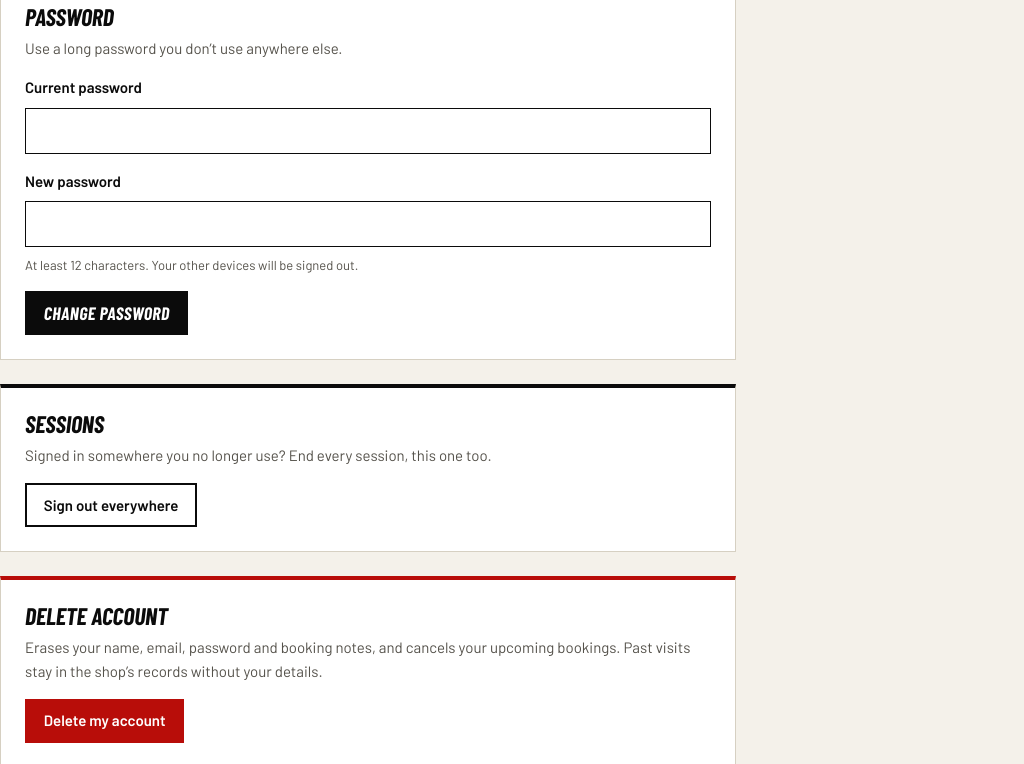
Test case: AccountPage › asks for the password before deleting, and shows a refusal
(page scrolled)
Click the button "Delete my account": (105, 721) [25,699,184,743]
(page scrolled)
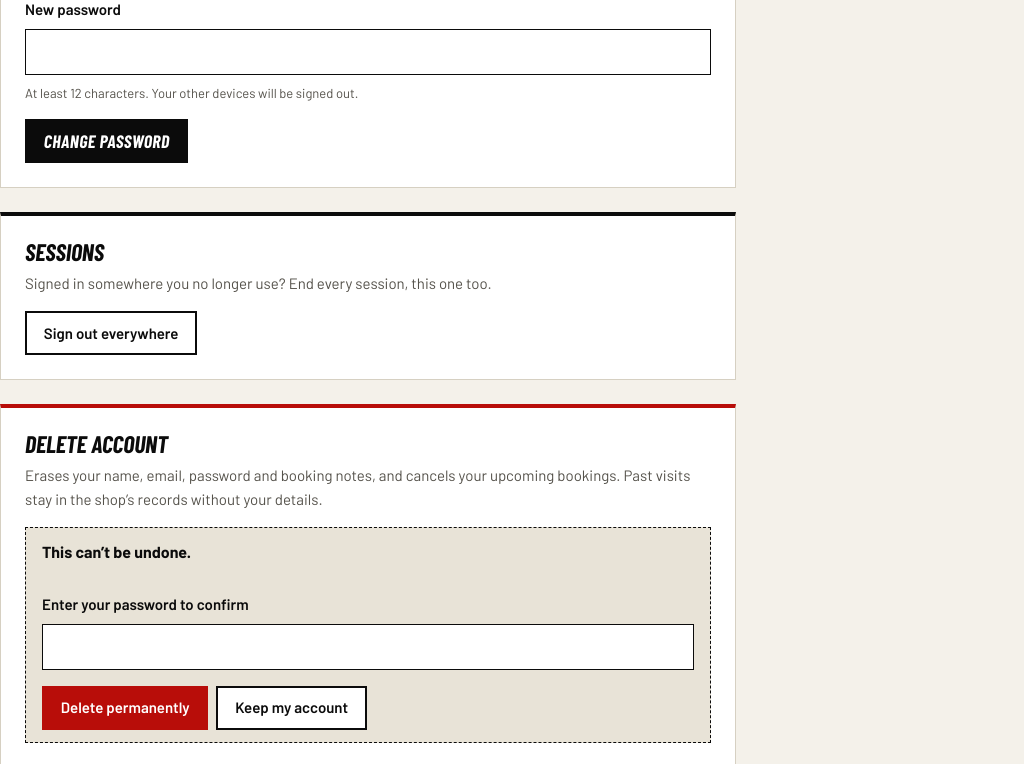
In the password field labelled "Enter your password to confirm": (368, 647) [42,624,694,670], type "wrong-one"
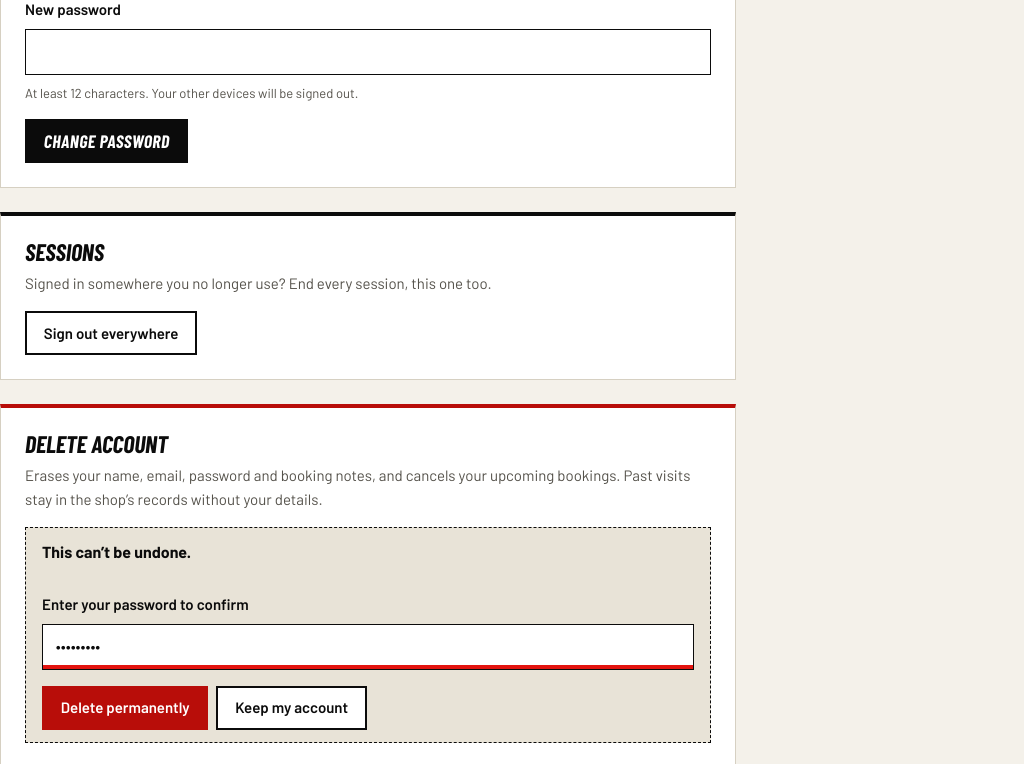
Click the button "Delete permanently": (125, 708) [42,686,208,730]
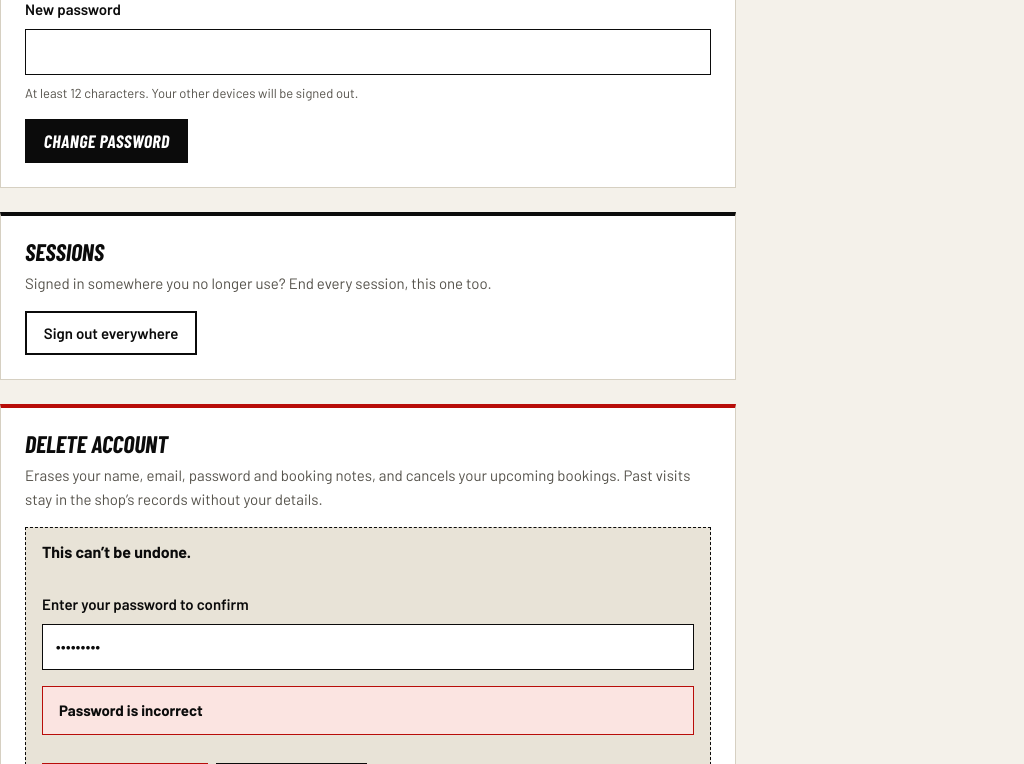
Expected: the message reads "Password is incorrect", [59,701,203,719]
